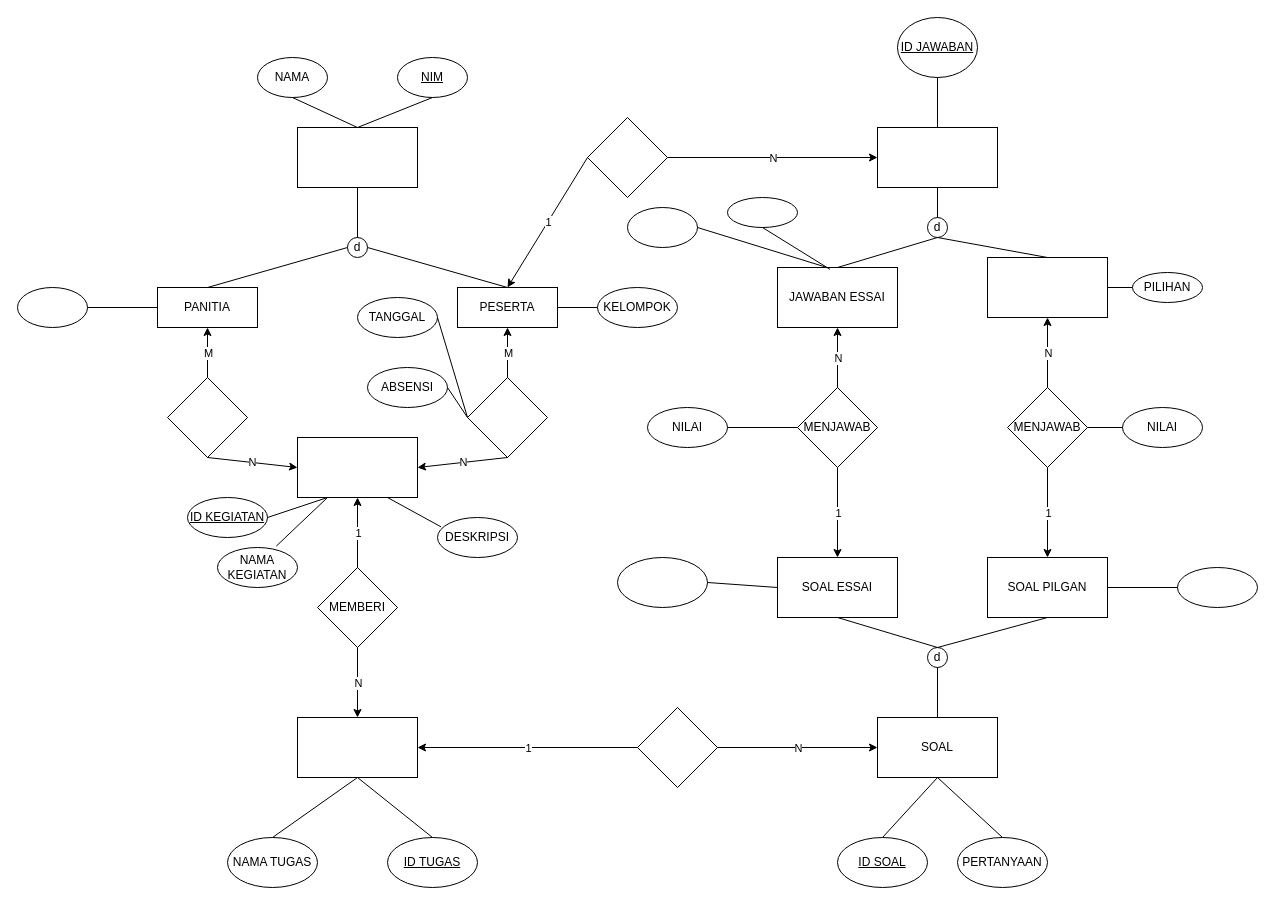
Image size: 1275x905. Some labels were removed from this diagram. The shapes that lost their labels are listed below. From the top down, each one's box as (x1, y1, x2, y2) in pixels, then its label:
(296, 126, 418, 188): MAHASISWA
(586, 116, 668, 198): MEMBUAT
(876, 126, 998, 188): JAWABAN
(626, 206, 698, 248): ISI
(726, 196, 798, 228): JUMLAH KATA
(16, 286, 88, 328): JABATAN
(986, 256, 1108, 318): JAWABAN PILGAN
(166, 376, 248, 458): MEMANAGE
(466, 376, 548, 458): MENGIKUTI
(296, 436, 418, 498): KEGIATAN
(616, 556, 708, 608): PENJELASAN SOAL
(1176, 566, 1258, 608): PILIHAN JAWABAN
(296, 716, 418, 778): TUGAS
(636, 706, 718, 788): TERDIRI DARI
